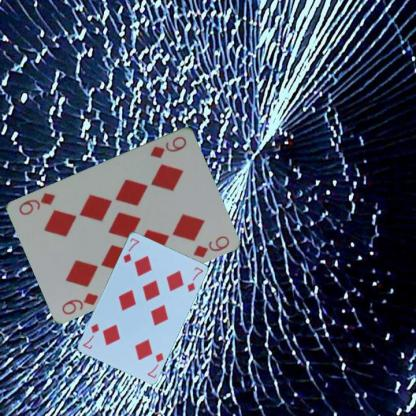7d: (144, 350, 165, 379), (120, 235, 140, 264)
9d: (148, 134, 188, 160), (59, 290, 99, 316)
